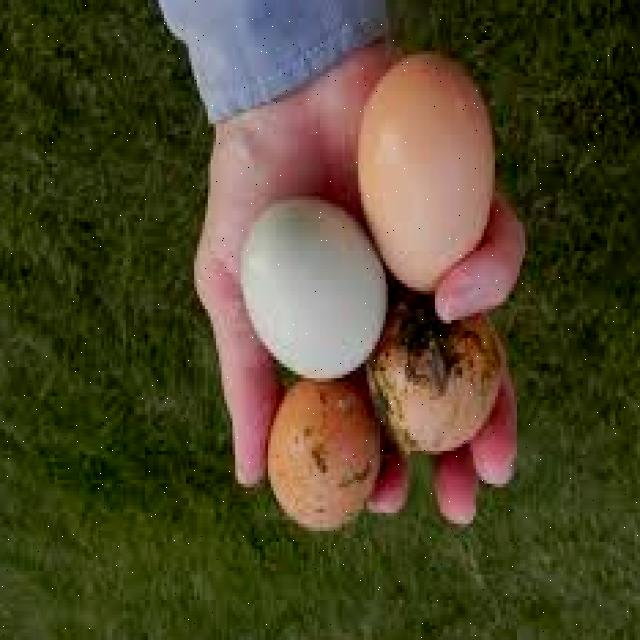Blood Stained Egg: (382, 314, 544, 439)
Brown Egg: (352, 38, 528, 314)
Dirt Stained Egg: (255, 376, 386, 538)
White Egg: (235, 206, 390, 384)
